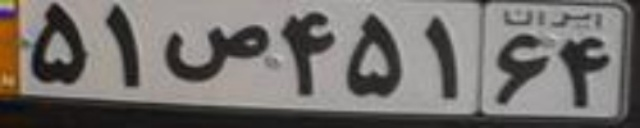1: (421, 17, 457, 100), (104, 4, 138, 86)
4: (280, 10, 334, 97), (555, 36, 609, 107)
5: (29, 4, 97, 83), (343, 12, 405, 95)
6: (493, 32, 549, 104)
saat: (160, 24, 272, 81)
